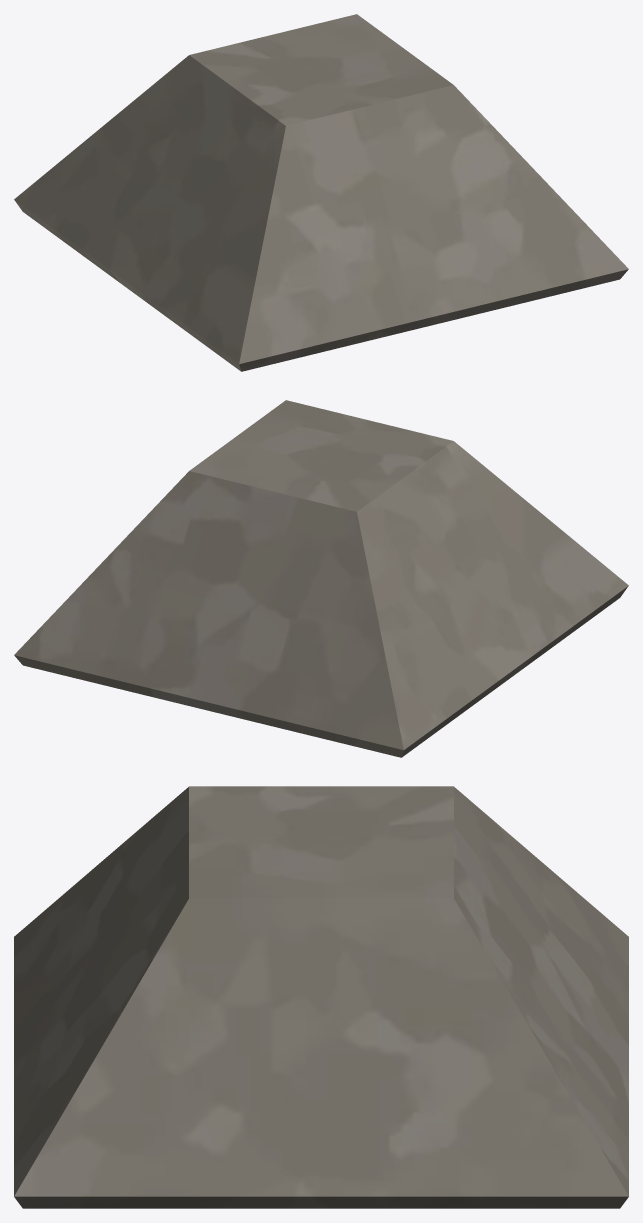
File: Part - Simlpe form 03-D4bzCMyO.glb
The picture shows the model from 3 angles, top to bottom: view 1: azimuth 30°, elevation 25°; view 2: azimuth 150°, elevation 25°; view 3: azimuth 270°, elevation 25°; orthographic projection. The views are drawn at different scales.
Parts seen in each view (by area): view 1: Simlpe_form_03; view 2: Simlpe_form_03; view 3: Simlpe_form_03.
Boxes of the visible parts, bbox=[...] form: Simlpe_form_03: bbox=[14, 14, 628, 371]; Simlpe_form_03: bbox=[14, 400, 628, 757]; Simlpe_form_03: bbox=[14, 786, 628, 1208].
Bounding box in the file's own units: 1.16 × 0.5 × 1.16.
Materials: 1 (1 with a texture image).
